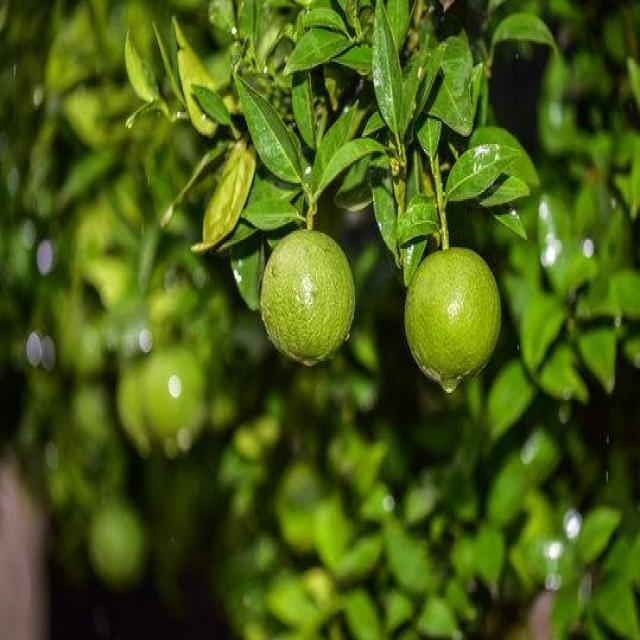Jeruk Belum Matang: (401, 247, 501, 389), (260, 230, 355, 364)
